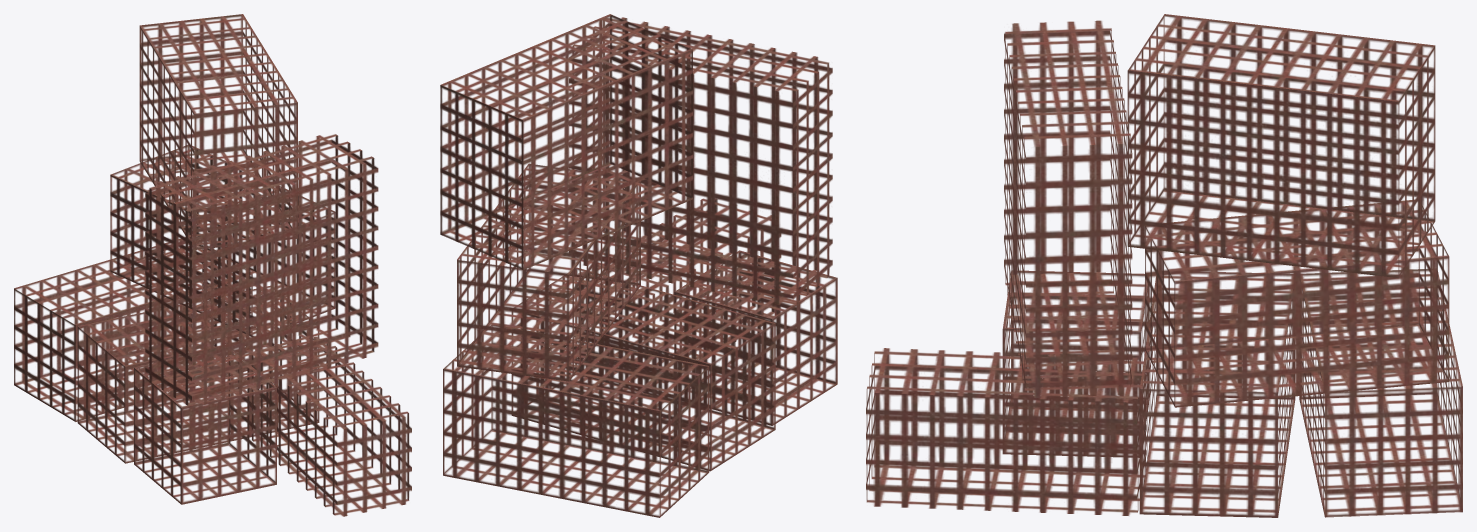
The model's file is cages_stack_corner_stack.glb.
The picture shows the model from 3 angles, left to right: view 1: azimuth 30°, elevation 25°; view 2: azimuth 150°, elevation 25°; view 3: azimuth 270°, elevation 25°; orthographic projection. The views are drawn at different scales.
Parts seen in each view (by area): view 1: cages_stack_corner_stack_Baked; view 2: cages_stack_corner_stack_Baked; view 3: cages_stack_corner_stack_Baked.
Part boxes in pixels (<box>): cages_stack_corner_stack_Baked: <box>14,14,411,516</box>; cages_stack_corner_stack_Baked: <box>440,14,837,517</box>; cages_stack_corner_stack_Baked: <box>866,14,1462,517</box>.
Size of the model in its own units: 2.38 by 3.4 by 4.31.
1 material, 1 textured.
